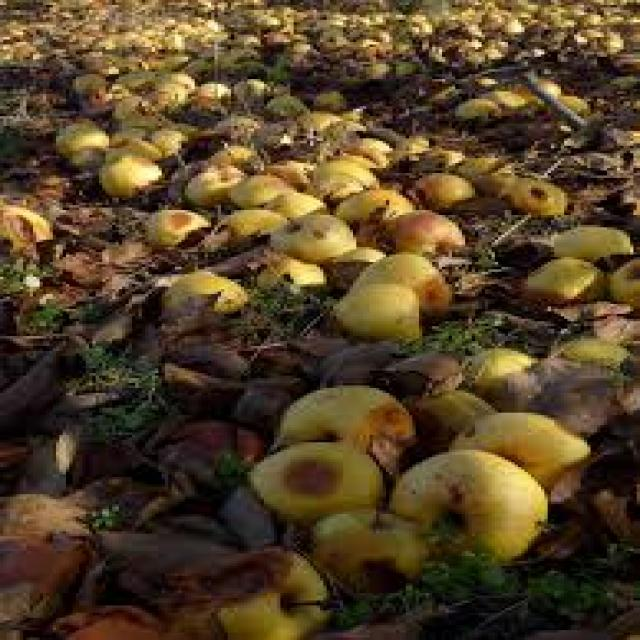organic waste: (383, 445, 544, 563), (152, 546, 330, 638), (241, 440, 386, 519), (446, 410, 590, 487), (495, 358, 633, 430), (306, 504, 416, 588), (270, 380, 412, 444), (0, 531, 102, 620), (353, 247, 449, 309), (320, 282, 412, 344), (363, 205, 468, 257), (330, 185, 416, 247), (56, 598, 172, 638), (406, 390, 488, 442), (267, 212, 350, 260), (455, 343, 525, 398), (518, 255, 600, 299), (162, 267, 244, 311), (92, 151, 162, 200), (0, 492, 86, 531), (208, 200, 277, 240), (251, 250, 320, 289), (300, 153, 376, 188), (139, 205, 211, 240), (502, 175, 564, 215), (449, 150, 508, 192), (551, 220, 623, 254), (224, 168, 300, 200), (49, 121, 109, 161), (185, 161, 244, 195), (0, 202, 49, 242), (564, 312, 637, 338), (600, 254, 637, 304), (561, 292, 630, 314), (102, 134, 158, 160), (145, 121, 185, 156), (102, 89, 148, 119), (257, 154, 310, 180), (343, 131, 386, 161), (267, 188, 320, 212), (290, 109, 343, 133), (258, 89, 300, 119), (406, 146, 458, 170), (165, 161, 201, 195), (508, 77, 558, 101), (135, 20, 185, 44), (304, 170, 356, 192), (142, 77, 188, 101), (452, 94, 495, 119), (185, 12, 218, 44), (392, 2, 429, 30), (465, 27, 505, 52), (228, 74, 267, 99), (304, 20, 343, 44), (488, 3, 525, 27), (254, 20, 294, 42), (205, 141, 244, 163), (188, 79, 238, 96), (534, 0, 568, 25), (587, 27, 620, 52), (69, 72, 109, 92), (343, 32, 383, 52), (452, 5, 485, 27), (112, 72, 152, 89), (551, 94, 584, 114), (597, 5, 637, 20), (363, 5, 392, 25), (482, 89, 514, 106), (310, 86, 337, 106), (112, 27, 145, 42), (330, 7, 366, 20), (158, 69, 188, 84), (369, 22, 396, 37), (264, 0, 293, 12), (564, 10, 597, 20)
